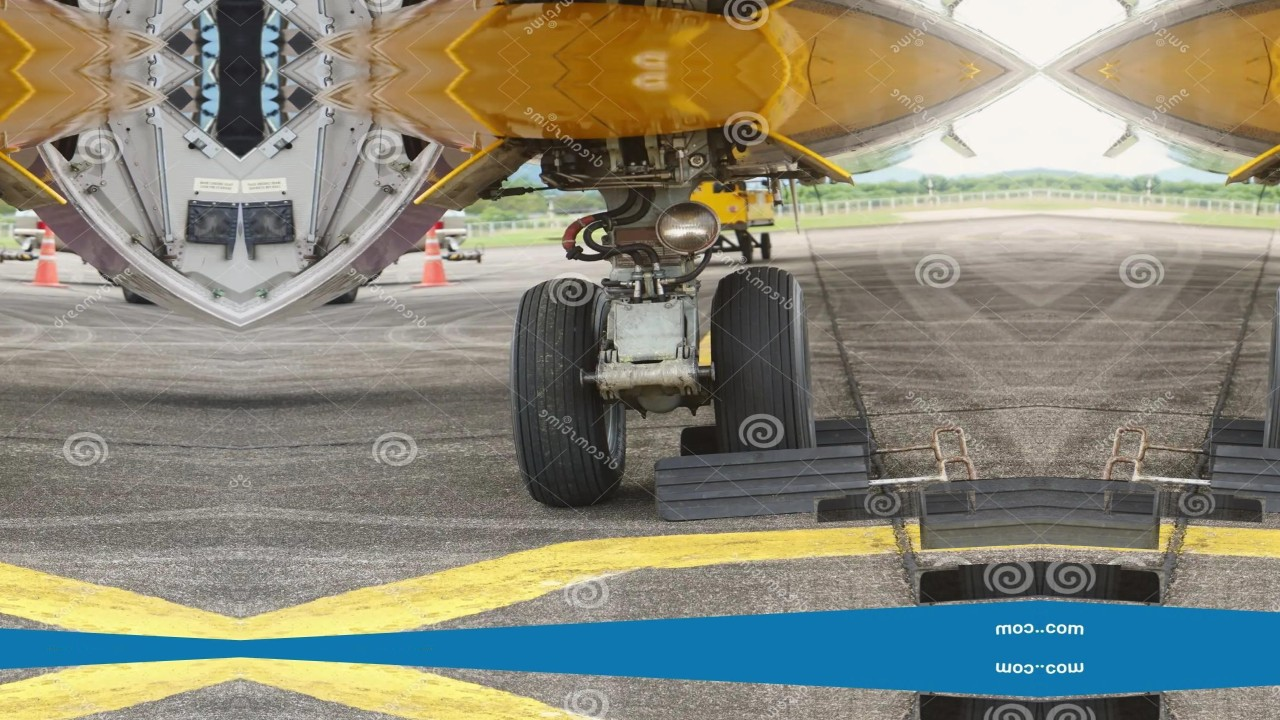chock: (649, 445, 874, 520), (918, 471, 1040, 550), (1040, 471, 1162, 550), (675, 414, 877, 457), (914, 556, 1040, 603), (1040, 556, 1166, 603), (1206, 445, 1280, 520), (814, 489, 976, 523), (1104, 489, 1266, 523), (1203, 414, 1280, 457), (914, 695, 1040, 720), (1040, 695, 1166, 720)
wheel: (509, 277, 633, 505), (704, 263, 814, 452), (1266, 263, 1280, 452)
